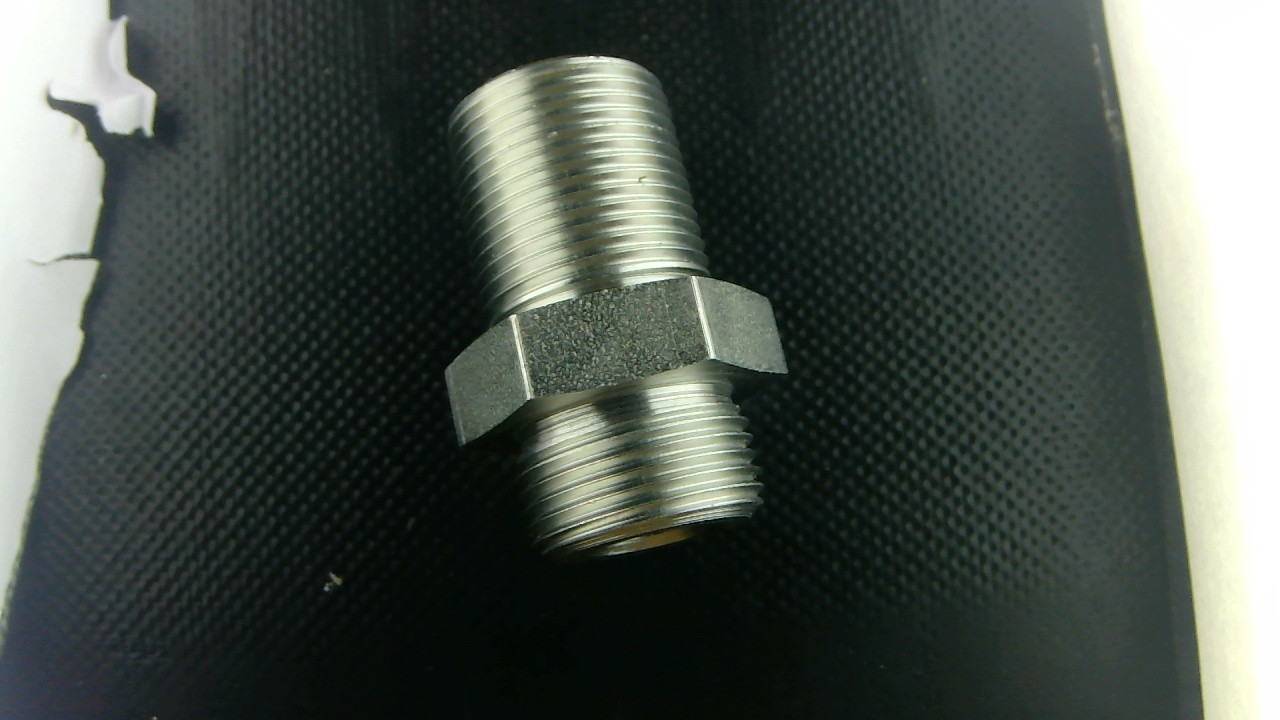okay_adapter: (446, 56, 787, 558)
